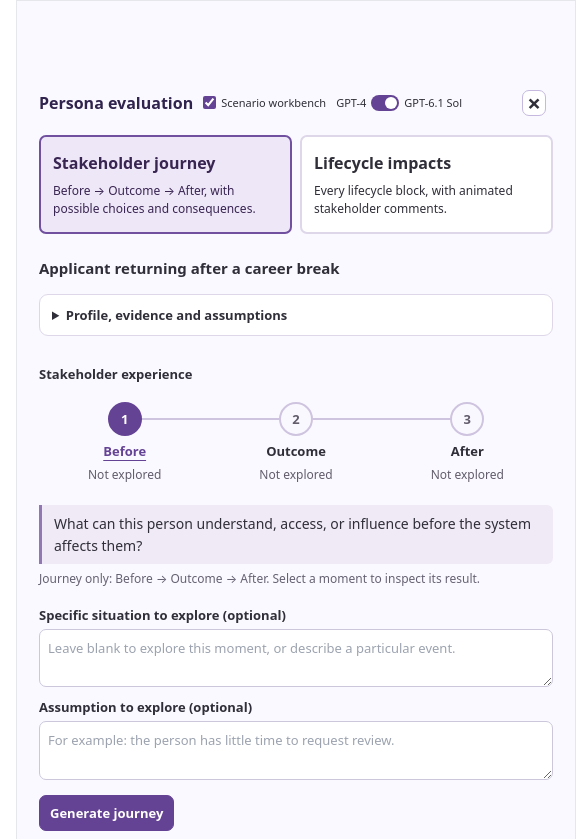
keeps lifecycle tracing separate from the three-moment journey
Click the button "2 Outcome Not explored" at (296, 447), box [210,402,382,493]
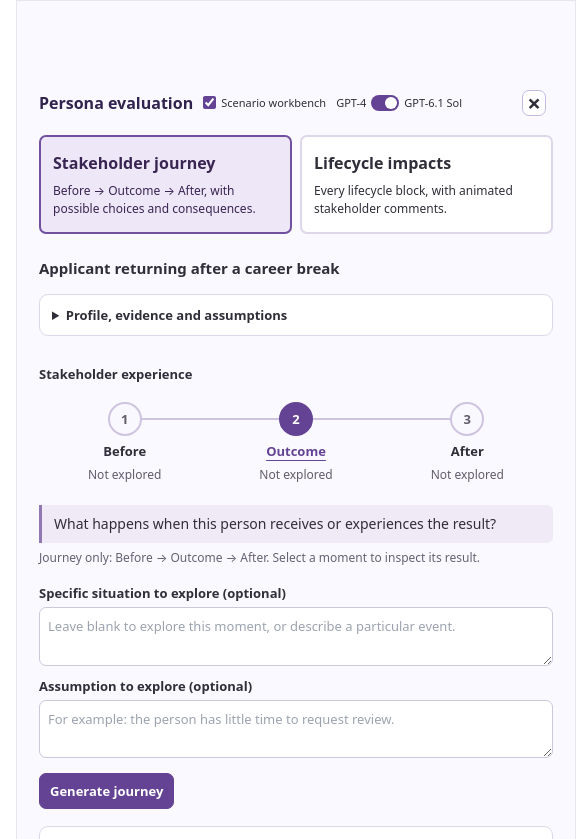
Click the button "Lifecycle impacts Every" at (426, 184), box [300,135,553,234]
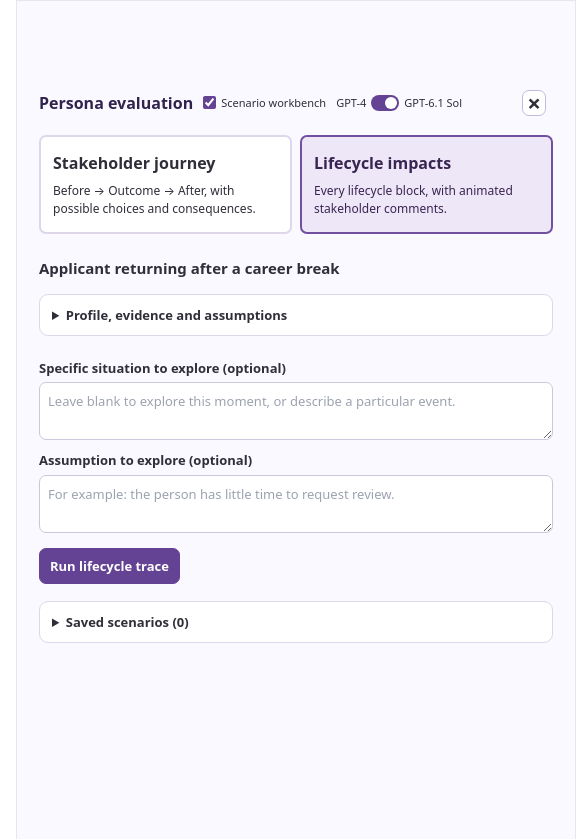
Click the button "Run lifecycle trace" at (110, 566), box [39,548,180,584]
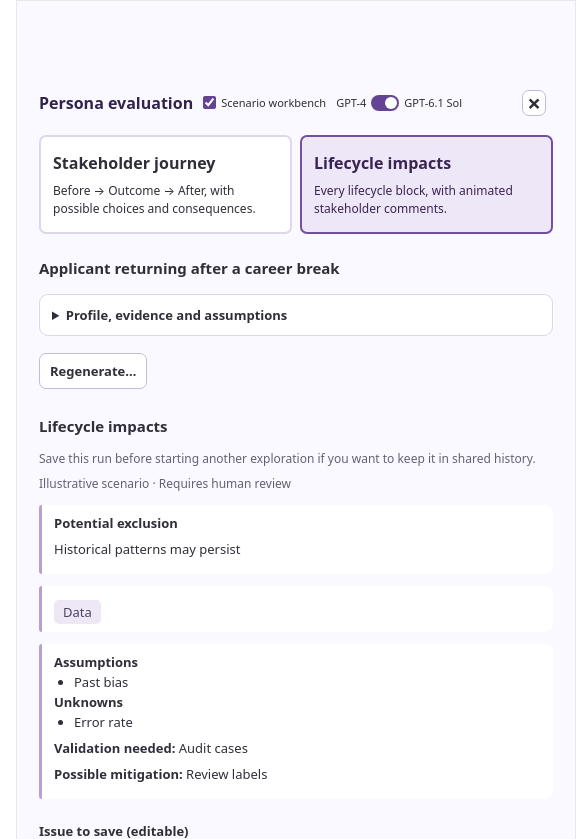
Check: the button "Regenerate…" is shown, box [39,353,147,389]
